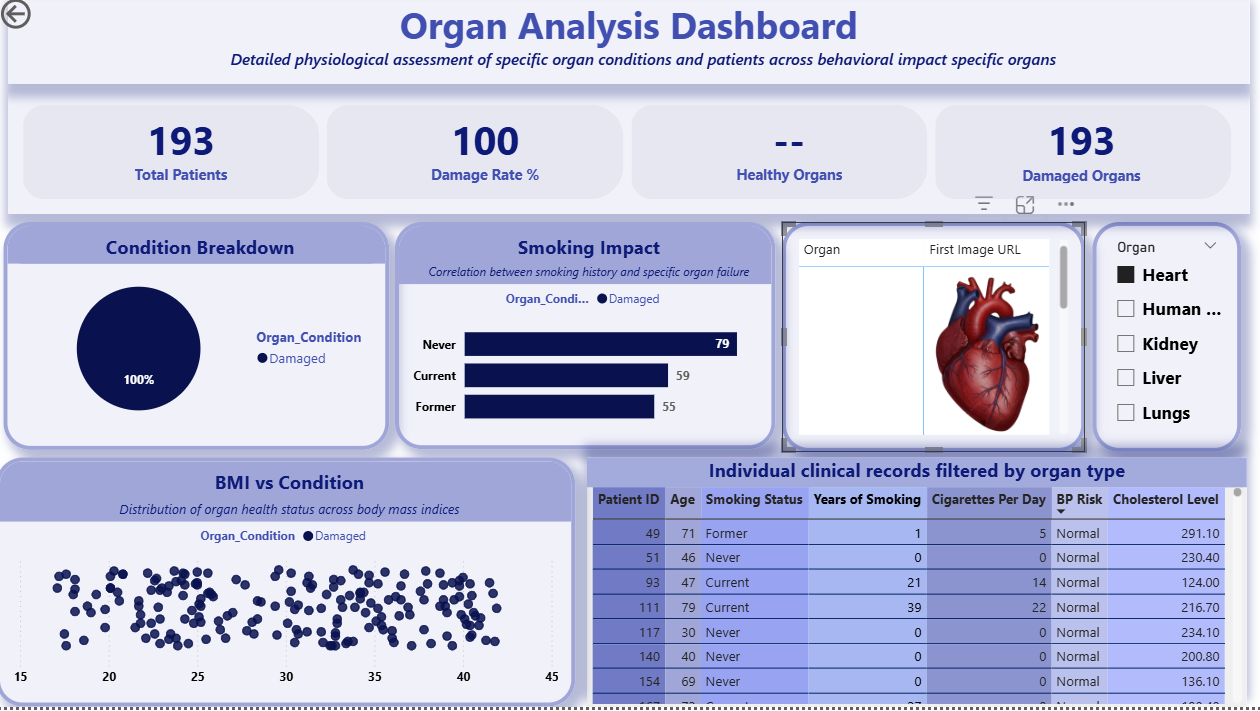

The dashboard page shown, as its layout file describes it:
{"tool":"powerbi","page":{"name":"Organ Analysis Dashboard","canvas":[1280,720],"ordinal":1},"visuals":[{"type":"textbox","box":[11.4,0,1253.5,91],"z":0},{"type":"pivotTable","fields":{"Values":["Min(Image Dataset.Image URL)"],"Rows":["Image Dataset.Organ"]},"box":[793.4,230.2,305.9,231.7],"z":1000},{"type":"slicer","fields":{"Values":["Image Dataset.Organ"]},"box":[1106.9,230.2,149.9,231.7],"z":2000},{"type":"cardVisual","fields":{"Data":["health_dataset.Total Patients","health_dataset.Damage Rate %","health_dataset.Healthy Organs","health_dataset.Damaged Organs"]},"box":[11.4,97.5,1253.5,125.2],"z":3000},{"type":"pieChart","title":"Condition Breakdown","fields":{"Category":["health_dataset.Organ_Condition"],"Y":["health_dataset.Total Records"]},"box":[7.6,230.2,389.2,230.2],"z":4000},{"type":"clusteredBarChart","title":"Smoking Impact","fields":{"Category":["health_dataset.Smoking_Status"],"Y":["health_dataset.Total Records"],"Series":["health_dataset.Organ_Condition"]},"box":[403.2,230.9,383.7,229.2],"z":5000},{"type":"scatterChart","title":"BMI vs Condition","fields":{"X":["Avg(health_dataset.BMI)"],"Y":["Sum(health_dataset.Age)"],"Series":["health_dataset.Organ_Condition"],"Category":["health_dataset.Patient_ID"]},"box":[0,467.9,584.5,251.4],"z":6000},{"type":"tableEx","title":"Individual clinical records filtered by organ type","fields":{"Values":["health_dataset.Patient_ID","Sum(health_dataset.Age)","health_dataset.Smoking_Status","Sum(health_dataset.Years_of_Smoking)","Sum(health_dataset.Cigarettes_Per_Day)","health_dataset.BP_Risk","Sum(health_dataset.Cholesterol_Level)"]},"box":[596.6,467.9,666.3,252.9],"z":7000},{"type":"actionButton","box":[0,0,100,40],"z":8000}]}

Visuals, with their boxes in screenshot pixels (x1, y1, x2, y2), scaled from the page's 1280x720 canvas onto the 1260x711 screenshot:
textbox: rect(11, 0, 1245, 90)
pivotTable - Min(Image Dataset.Image URL) x Image Dataset.Organ: rect(781, 227, 1082, 456)
slicer - Image Dataset.Organ: rect(1090, 227, 1237, 456)
cardVisual - health_dataset.Total Patients x health_dataset.Damage Rate %: rect(11, 96, 1245, 220)
"Condition Breakdown" pieChart: rect(7, 227, 391, 455)
"Smoking Impact" clusteredBarChart: rect(397, 228, 775, 454)
"BMI vs Condition" scatterChart: rect(0, 462, 575, 710)
"Individual clinical records filtered by organ type" tableEx: rect(587, 462, 1243, 710)
actionButton: rect(0, 0, 98, 40)
